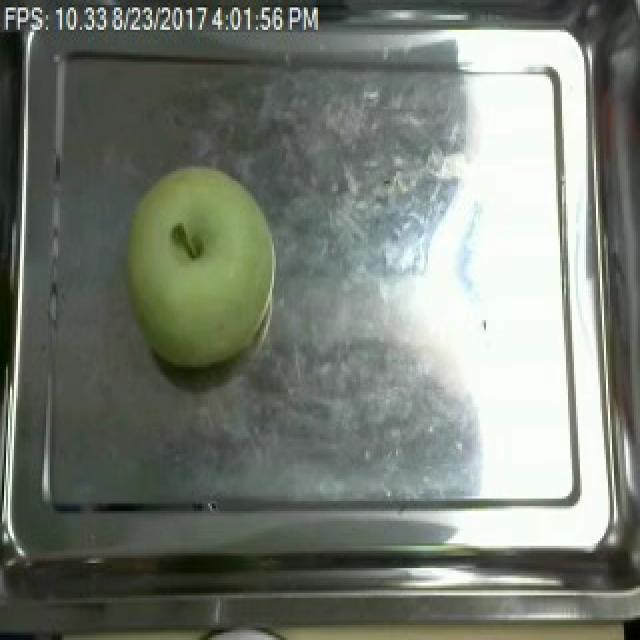50-_ripeness: (120, 166, 300, 387)
